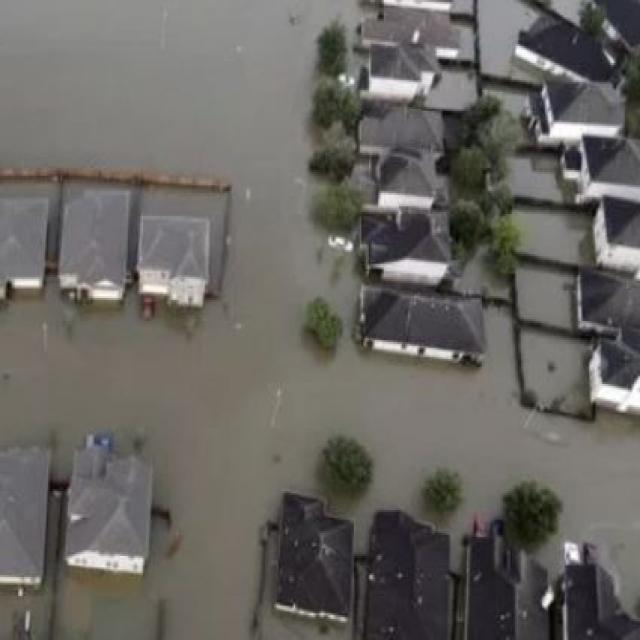flooded_areas: (4, 2, 626, 636)
